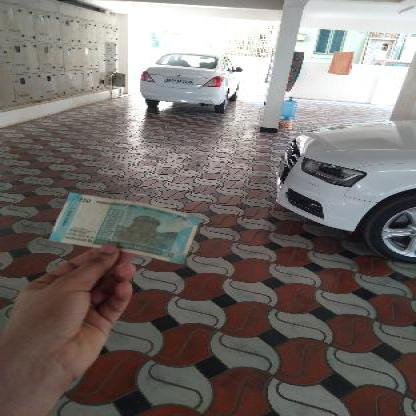New50Back: (48, 191, 196, 261)
